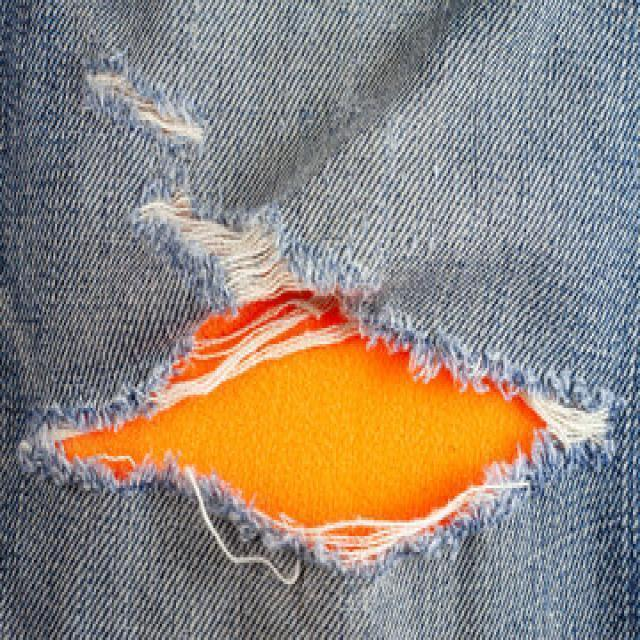Hole: (21, 198, 609, 574), (84, 55, 204, 144)
